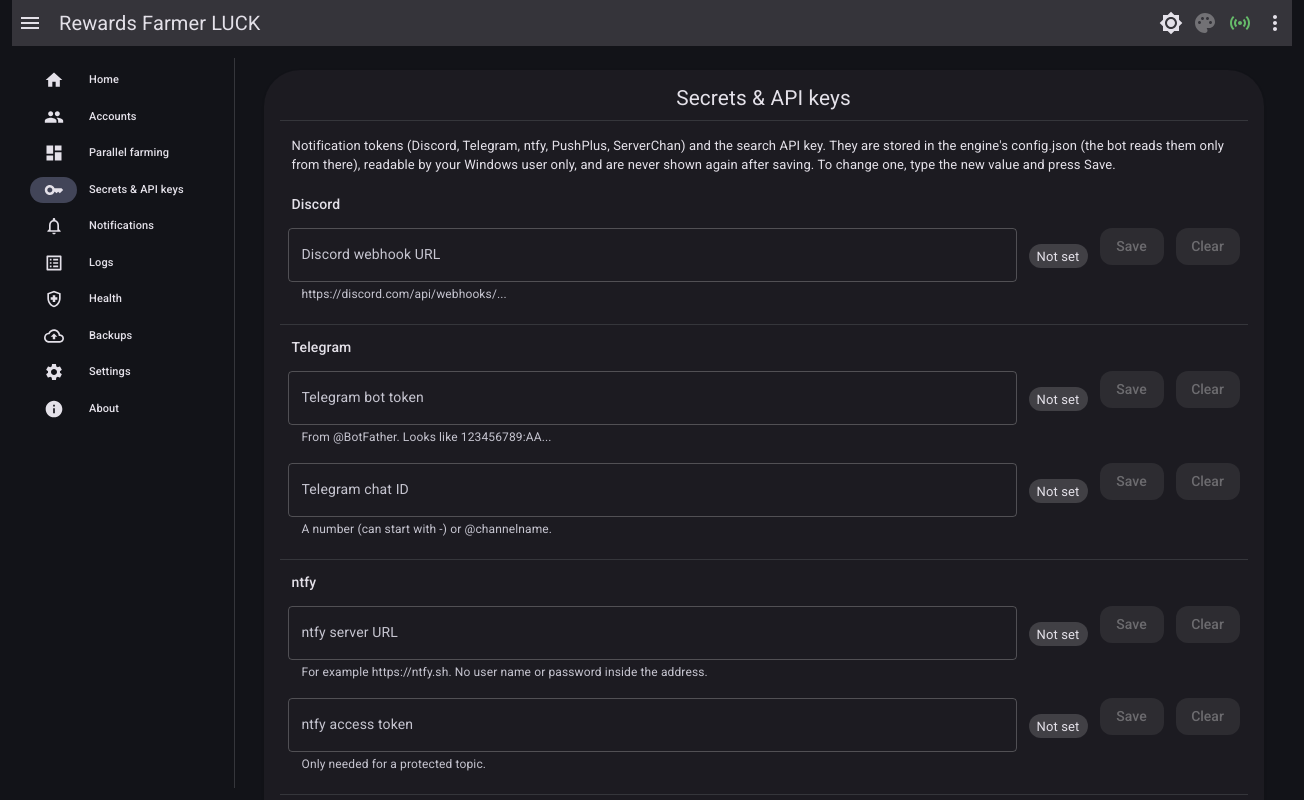
Test: Secrets card (Phase 10 renderer) › a refusal from the main process is shown and the typed value stays so it can be fixed
This screenshot has width=1304, height=800.
Check: the element "ntfy access token" is shown, box [280,698,1248,790]
Type "tk_FAKEntfyTOKEN12345" into the password field labelled "ntfy access token".
click(652, 725); type("tk_FAKEntfyTOKEN12345")  # box [288,698,1016,752]
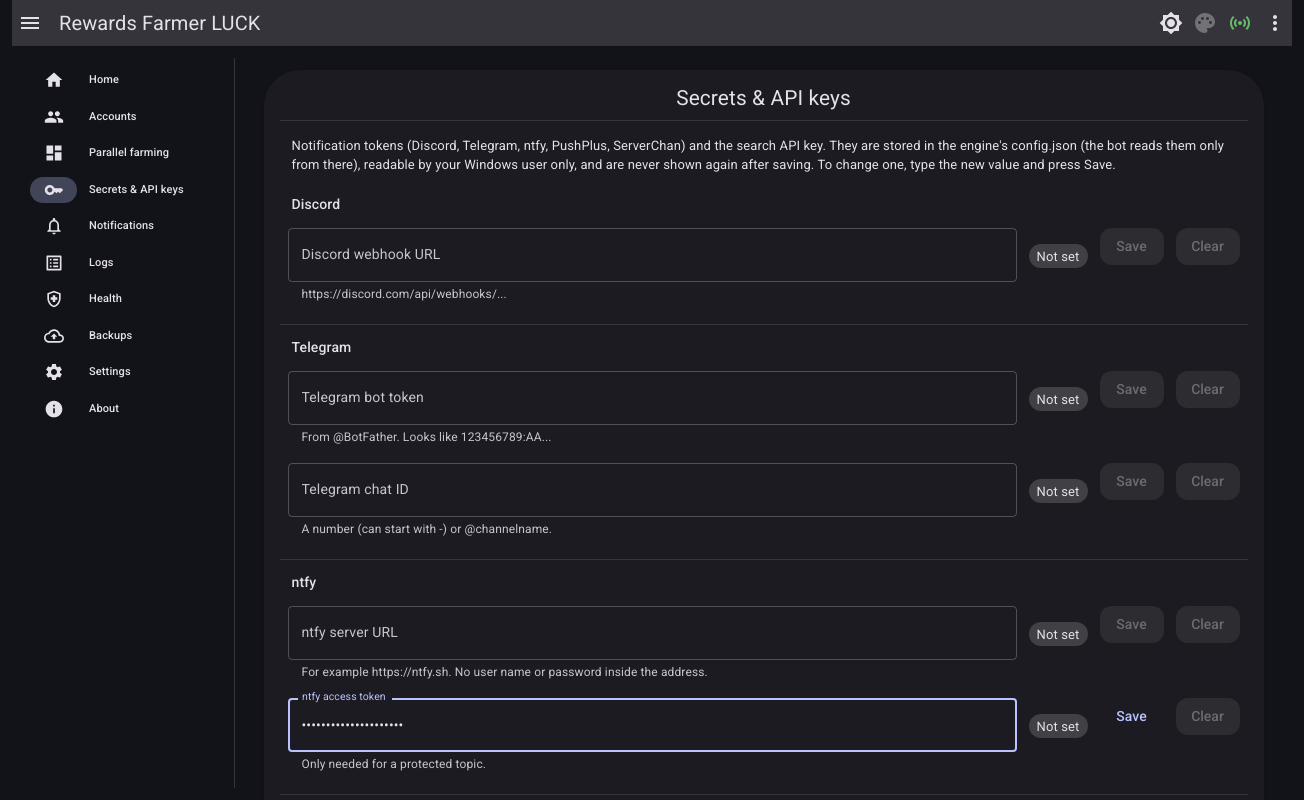
Click the button with aria-label "Save ntfy access token".
click(1132, 717)  # box [1100,698,1164,735]
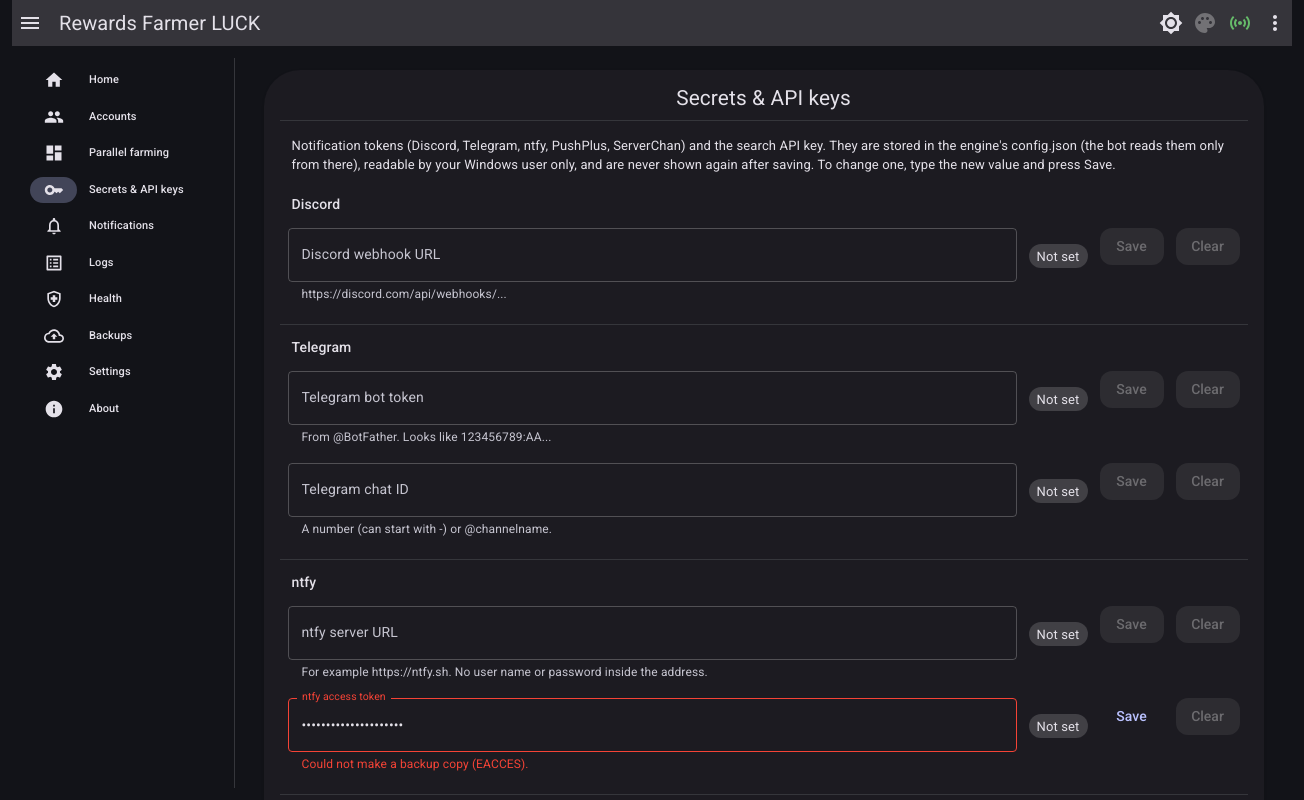
Check: the text "Could not make a backup copy (EACCES)." is shown, box [302,757,529,771]
